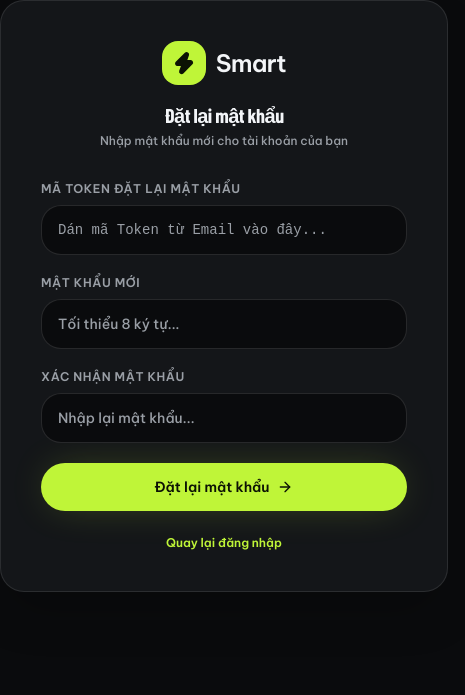
ResetPasswordForm: token source › no token anywhere: refused with a clear message, nothing sent
This screenshot has width=465, height=695.
Type "longenough1" into the password field labelled "Mật khẩu mới" at (224, 324), box [41,299,407,349]
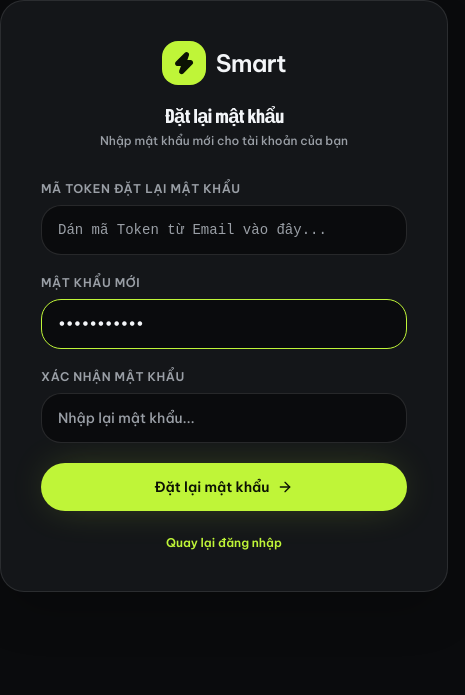
Type "longenough1" into the password field labelled "Xác nhận mật khẩu" at (224, 418), box [41,393,407,443]
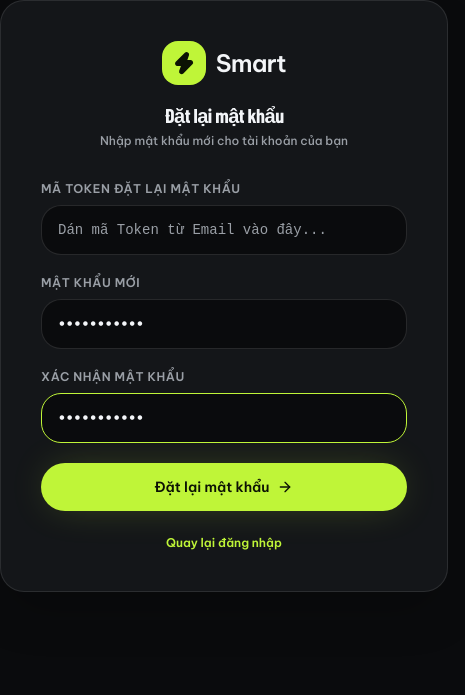
Click the button "Đặt lại mật khẩu" at (224, 487), box [41,463,407,511]
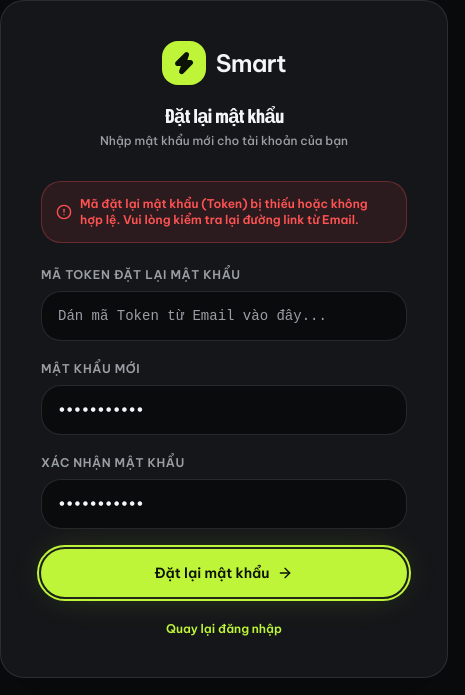
expect the message shows "Mã đặt lại mật khẩu (Token) bị thiếu": met, box [80,196,368,227]
